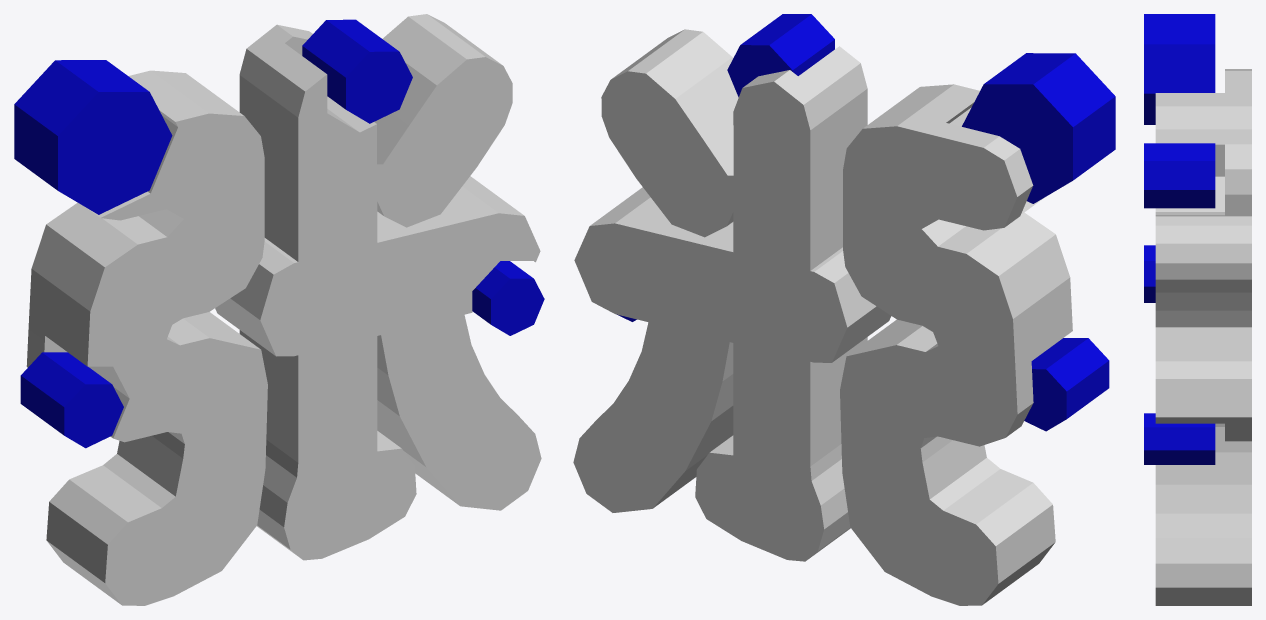
The model's file is Ch_Lite_China_张_01.fbx.
The picture shows the model from 3 angles, left to right: view 1: azimuth 30°, elevation 25°; view 2: azimuth 150°, elevation 25°; view 3: azimuth 270°, elevation 25°; orthographic projection. The views are drawn at different scales.
Visible parts, largest first — view 1: sphere1; view 2: sphere1; view 3: sphere1.
Part boxes in pixels (box(x1,y1,x2,y2)): sphere1: box(14, 14, 544, 605); sphere1: box(573, 14, 1115, 605); sphere1: box(1144, 14, 1251, 605).
Bounding box in the file's own units: 0.9642 × 0.9988 × 0.2242.
